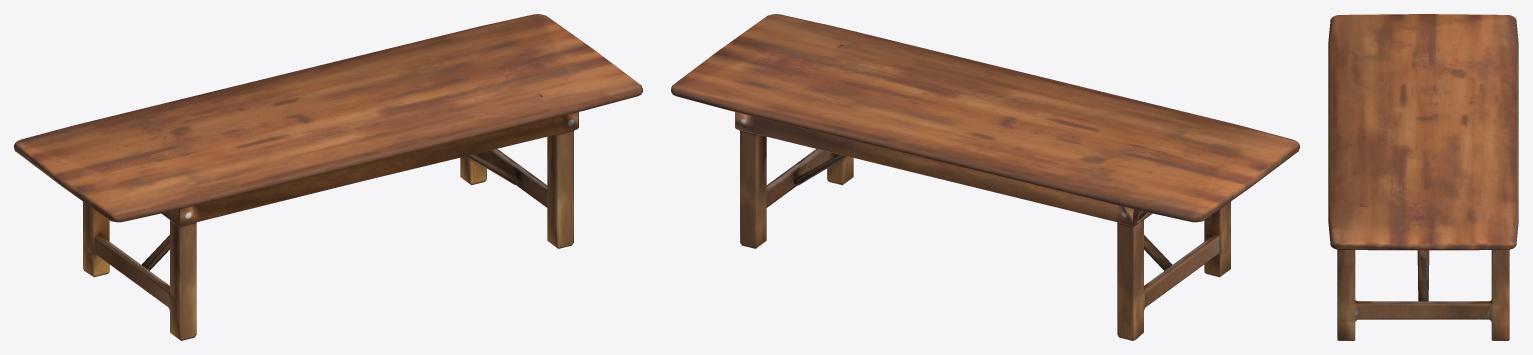
File: farm_table_0125185236_texture.glb
The picture shows the model from 3 angles, left to right: view 1: azimuth 30°, elevation 25°; view 2: azimuth 150°, elevation 25°; view 3: azimuth 270°, elevation 25°; orthographic projection. The views are drawn at different scales.
Parts seen in each view (by area): view 1: Mesh_0.001; view 2: Mesh_0.001; view 3: Mesh_0.001.
Part boxes in pixels (x1=…): Mesh_0.001: x1=14, y1=14, x2=642, y2=340; Mesh_0.001: x1=671, y1=14, x2=1299, y2=340; Mesh_0.001: x1=1328, y1=14, x2=1518, y2=340.
Size of the model in its own units: 2.97 by 0.762 by 1.03.
1 material, 1 textured.
